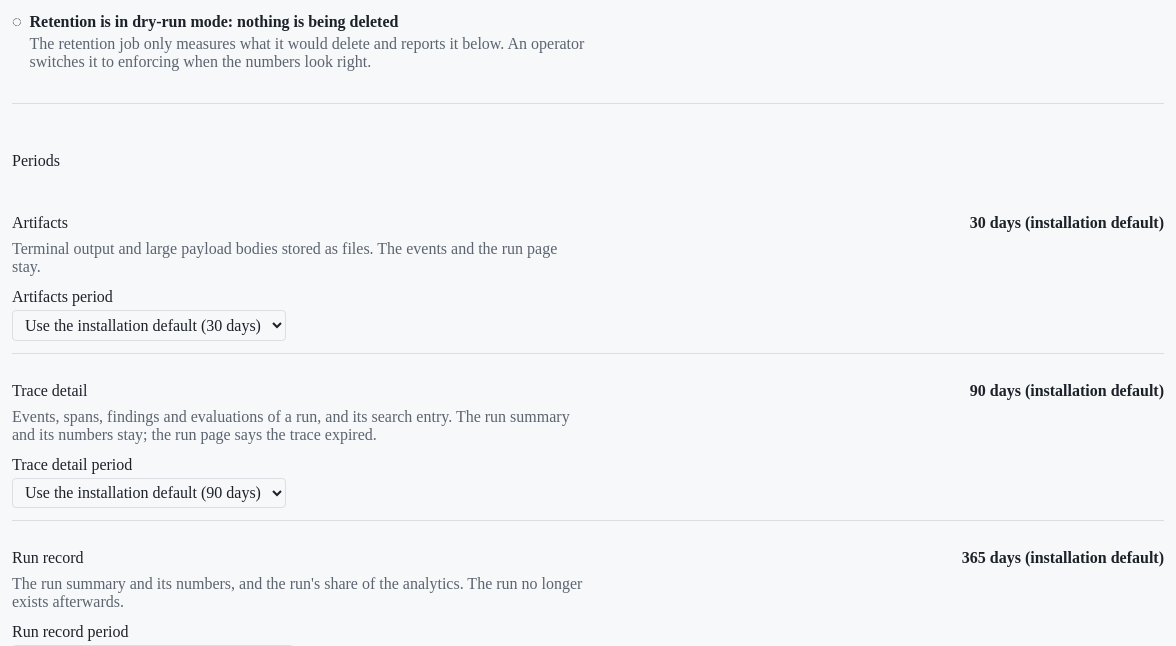
Scenario: editing › saves only what changed and shows what the API stored
Select "Keep for a number of days" in the dropdown labelled "Trace detail period". click: (149, 493)
box: [12, 478, 286, 508]
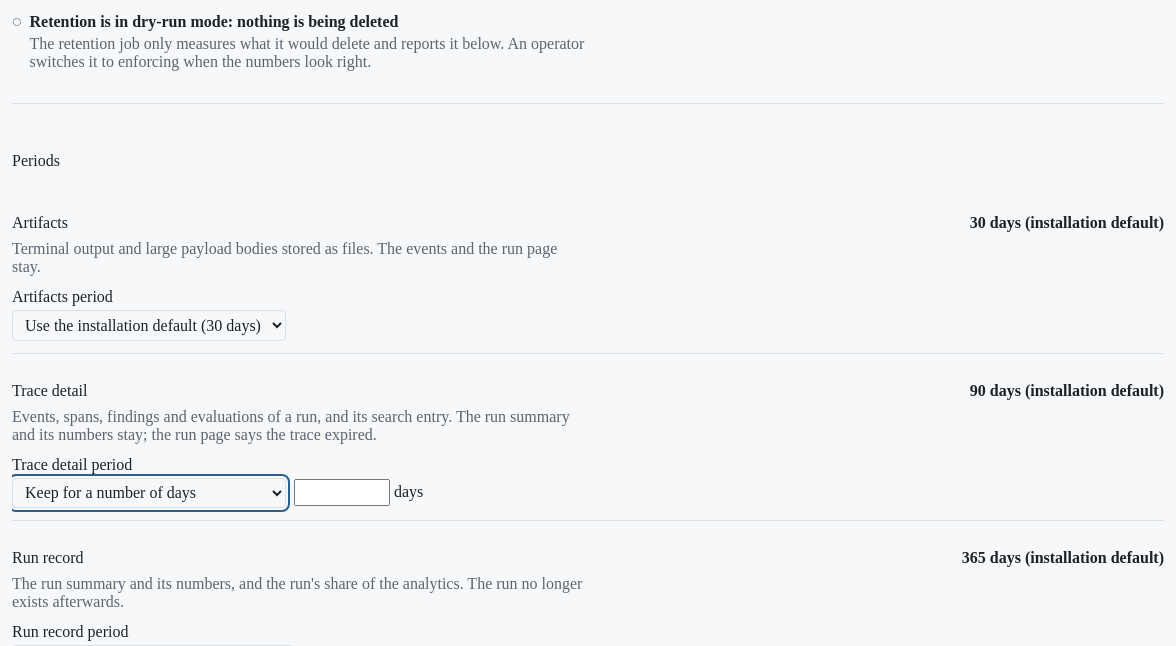
Type "120" into the field named "Trace detail days". click: (342, 493)
box: [294, 479, 390, 506]
(page scrolled)
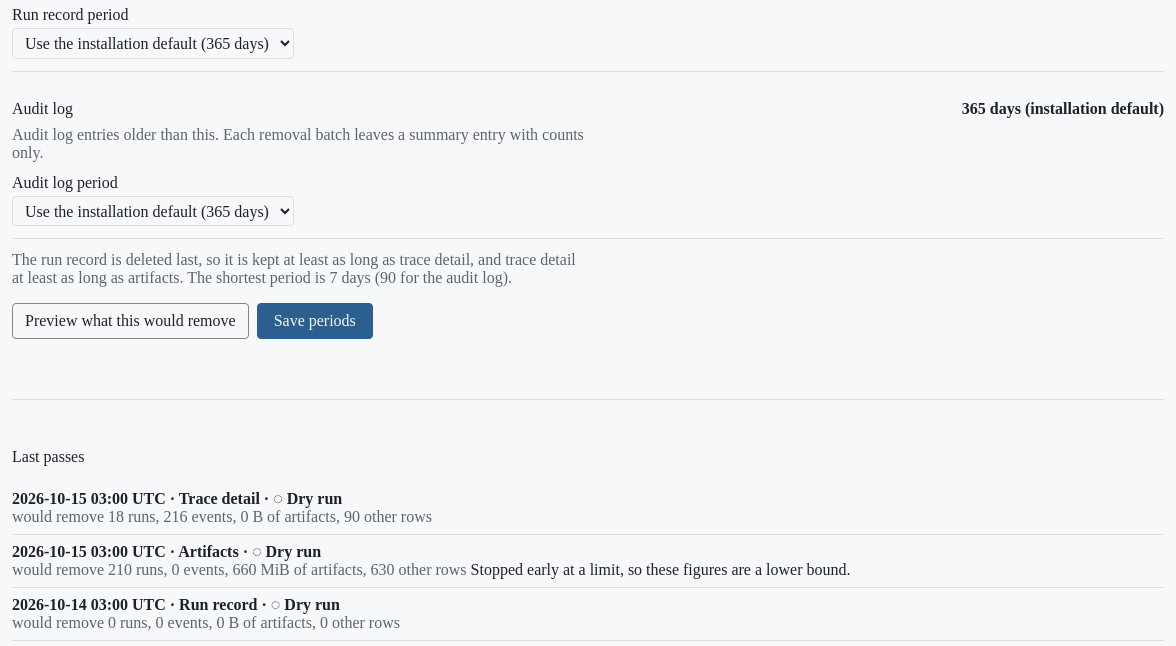
Click the button "Save periods". click: (315, 321)
box: [257, 303, 373, 339]
(page scrolled)
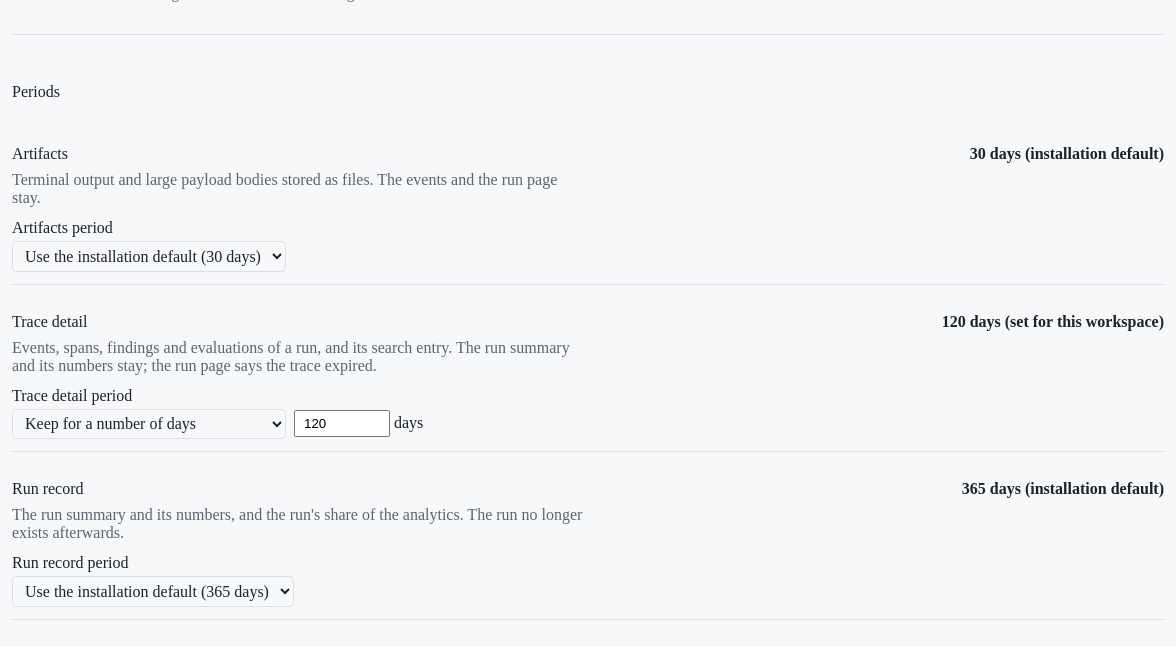
Check: the text with test id "tier-value" reads "120 days (set for this workspace)", box [942, 313, 1164, 330]
